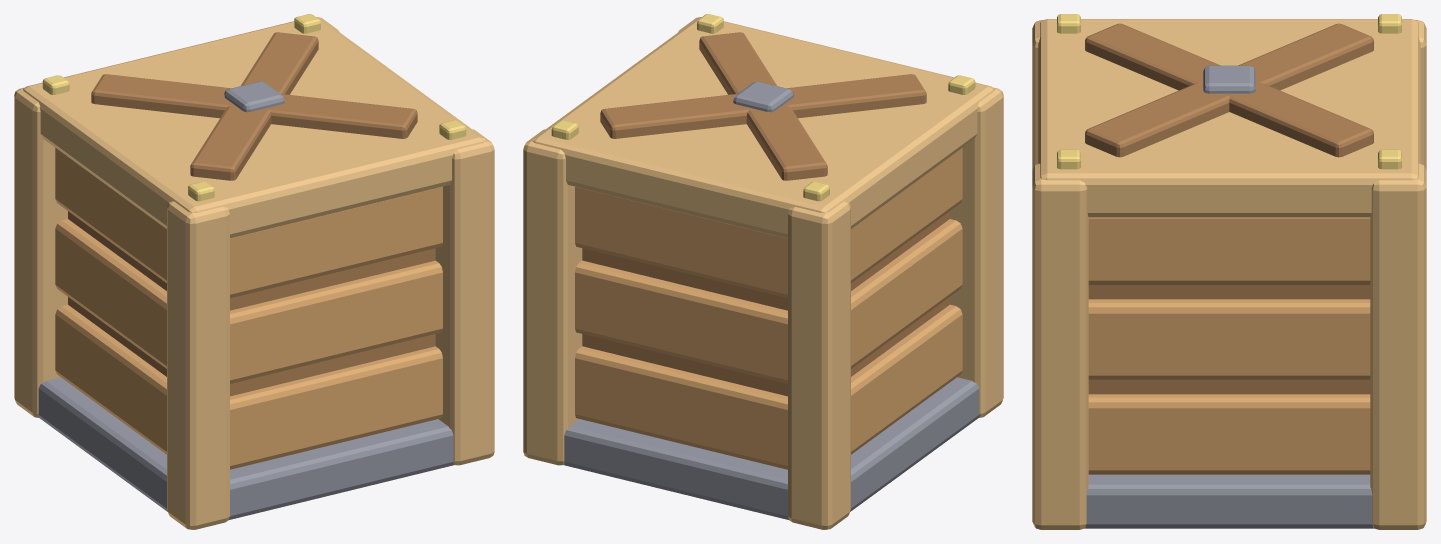
File: crate.glb
3 views of the same model, side by side, from view 1: azimuth 30°, elevation 25°; view 2: azimuth 150°, elevation 25°; view 3: azimuth 270°, elevation 25° (orthographic). The views are drawn at different scales.
Parts seen in each view (by area): view 1: Cube.013, Cube.002, Cube.001, Cube.004, Cube.003, Cube.012, Cube.008, Cube.006, Cube.015, Cube, Cube.014, Cube.016; view 2: Cube.013, Cube.002, Cube.001, Cube.006, Cube.003, Cube.012, Cube.010, Cube.004, Cube.014, Cube, Cube.015, Cube.016; view 3: Cube.013, Cube.001, Cube.002, Cube.008, Cube.010, Cube.003, Cube.012, Cube.014, Cube.015, Cube, Cube.016, Cube.004 (+5 smaller).
Part boxes in pixels (x1=…): Cube.013: x1=23, y1=17, x2=485, y2=238; Cube.002: x1=55, y1=219, x2=442, y2=383; Cube.001: x1=55, y1=304, x2=442, y2=469; Cube.004: x1=167, y1=201, x2=229, y2=529; Cube.003: x1=55, y1=148, x2=442, y2=298; Cube.012: x1=38, y1=377, x2=453, y2=519; Cube.008: x1=435, y1=129, x2=494, y2=465; Cube.006: x1=14, y1=87, x2=67, y2=417; Cube.015: x1=91, y1=74, x2=417, y2=138; Cube: x1=68, y1=211, x2=435, y2=396; Cube.014: x1=190, y1=32, x2=318, y2=180; Cube.016: x1=224, y1=81, x2=284, y2=112; Cube.013: x1=532, y1=17, x2=994, y2=238; Cube.002: x1=575, y1=219, x2=962, y2=383; Cube.001: x1=575, y1=304, x2=962, y2=469; Cube.006: x1=788, y1=201, x2=850, y2=529; Cube.003: x1=575, y1=148, x2=962, y2=298; Cube.012: x1=564, y1=377, x2=979, y2=519; Cube.010: x1=523, y1=129, x2=582, y2=465; Cube.004: x1=950, y1=87, x2=1003, y2=417; Cube.014: x1=600, y1=74, x2=926, y2=138; Cube: x1=582, y1=211, x2=949, y2=396; Cube.015: x1=699, y1=32, x2=827, y2=180; Cube.016: x1=733, y1=81, x2=793, y2=112; Cube.013: x1=1038, y1=19, x2=1420, y2=217; Cube.001: x1=1088, y1=394, x2=1370, y2=474; Cube.002: x1=1088, y1=299, x2=1370, y2=379; Cube.008: x1=1032, y1=163, x2=1088, y2=529; Cube.010: x1=1370, y1=163, x2=1426, y2=529; Cube.003: x1=1088, y1=217, x2=1370, y2=284; Cube.012: x1=1085, y1=474, x2=1373, y2=528; Cube.014: x1=1085, y1=23, x2=1373, y2=157; Cube.015: x1=1085, y1=23, x2=1373, y2=157; Cube: x1=1088, y1=285, x2=1370, y2=394; Cube.016: x1=1203, y1=65, x2=1255, y2=93; Cube.004: x1=1032, y1=20, x2=1042, y2=170.
Size of the model in its own units: 0.98 by 1.03 by 0.98.
